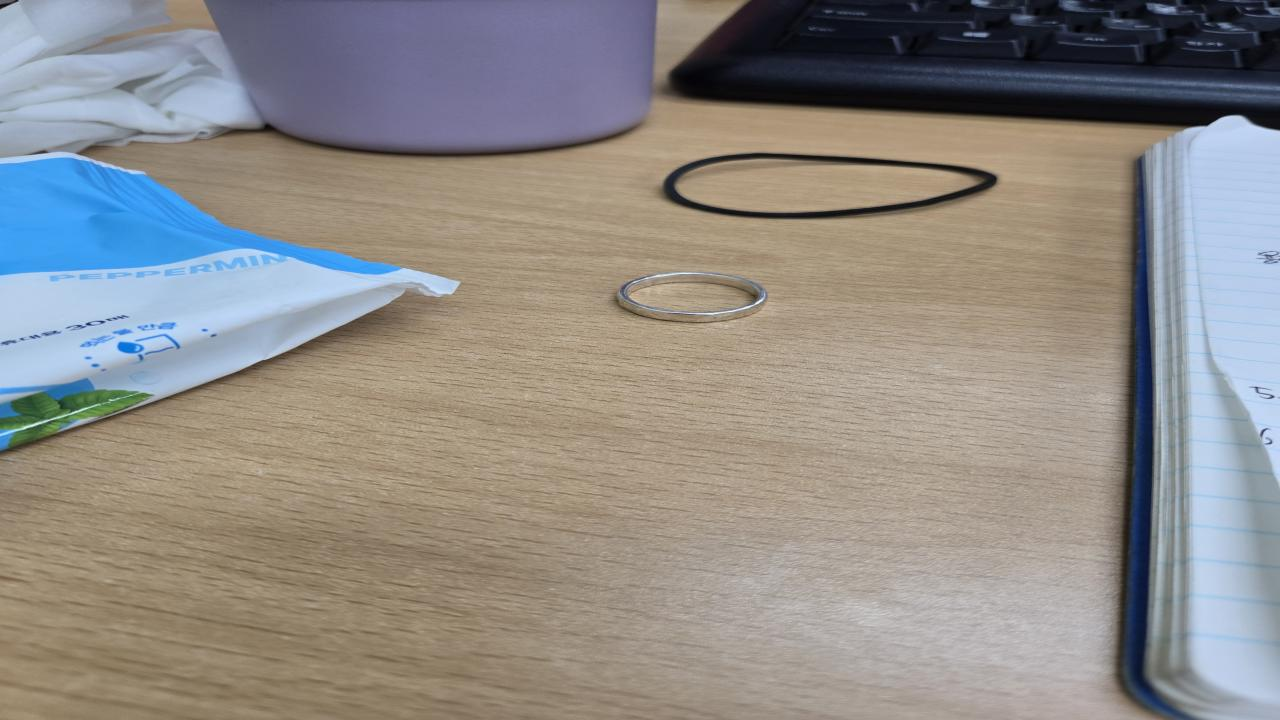ring: (613, 270, 772, 323)
